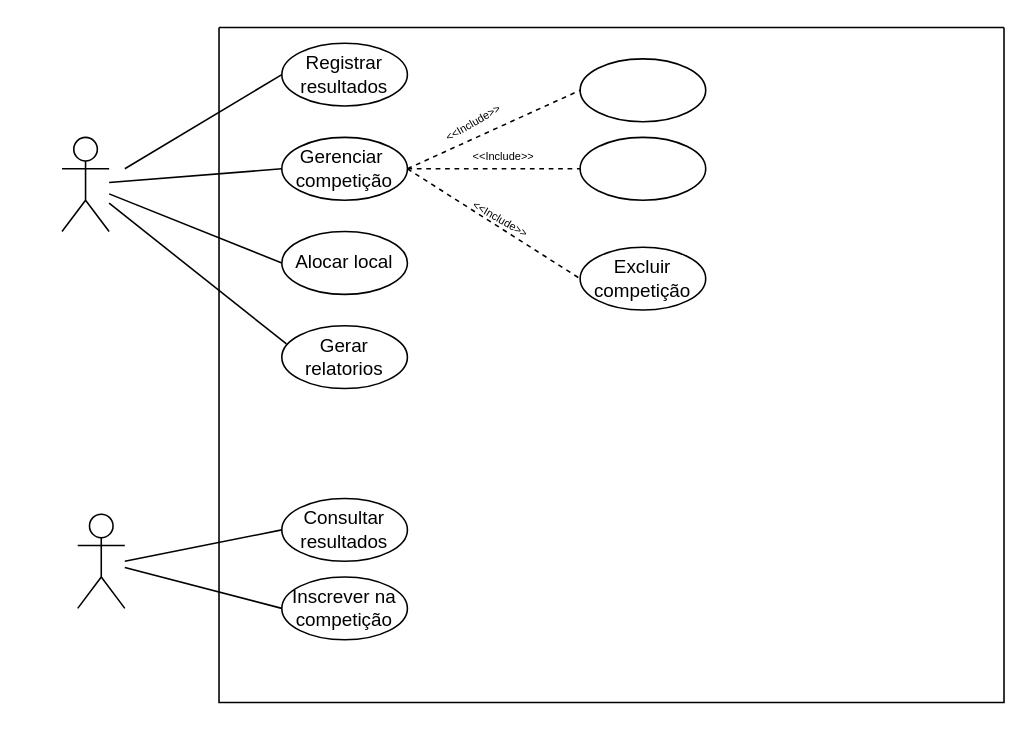
The diagram is 1031 pixels wide and 730 high, and some of its shapes have lost their labels. Each missing label, with the box of its shape:
Administrador: (60, 136, 109, 232)
Atleta: (76, 513, 125, 608)
Cadastrar competição: (579, 57, 706, 122)
Editar competição: (579, 136, 706, 200)
